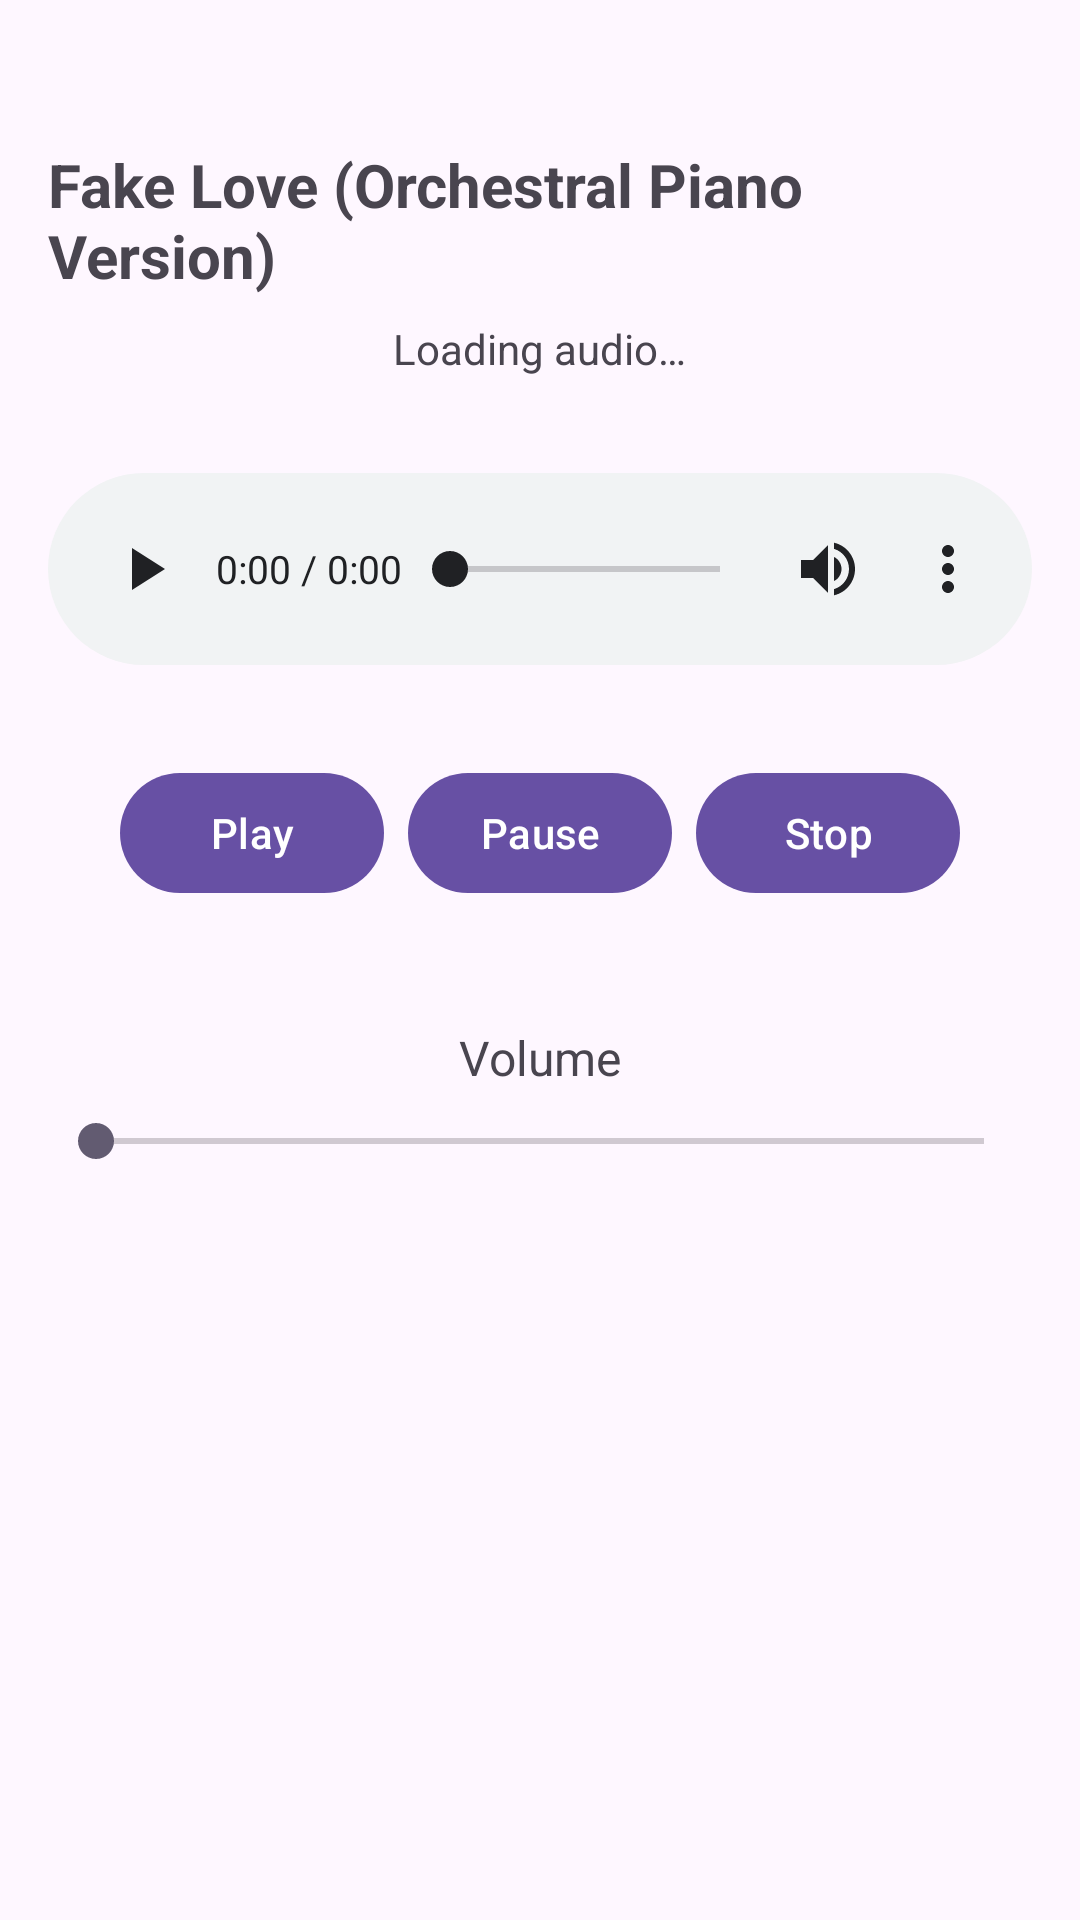

Where to tap for icons on this 1080px x 1920px app screen, as [x,y]:
More options: [948,569]
Volume: [828,569]
